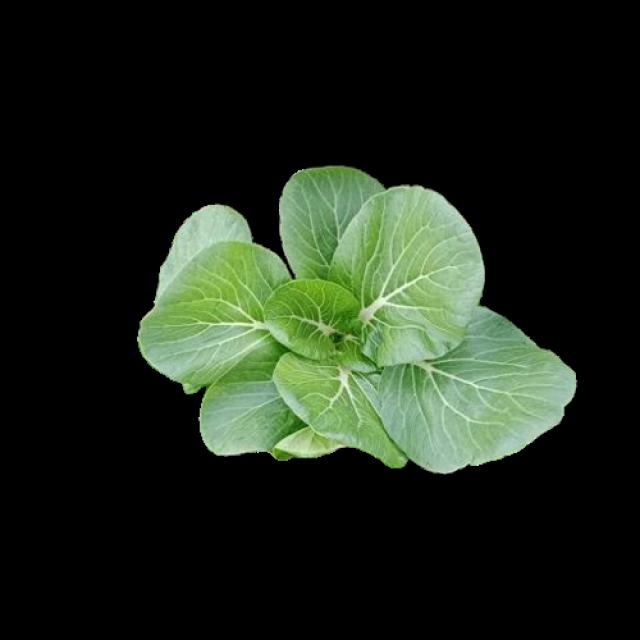healthy: (139, 167, 580, 478)
mature: (140, 166, 578, 475)
